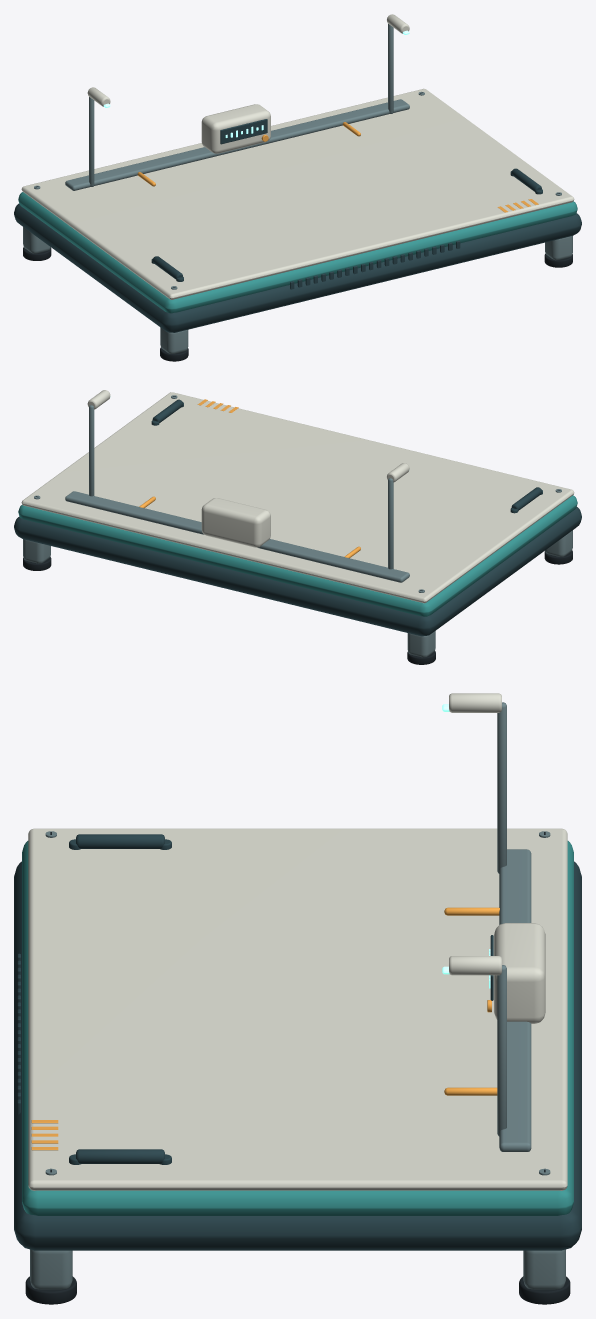
The model's file is workbench.glb.
The picture shows the model from 3 angles, top to bottom: view 1: azimuth 30°, elevation 25°; view 2: azimuth 150°, elevation 25°; view 3: azimuth 270°, elevation 25°; orthographic projection. The views are drawn at different scales.
Visible parts, largest first — view 1: Seed_Working surface.001, Seed_Lower chassis.001, Seed_Enamel shell.001, Seed_Rear bus.001, Seed_Instrument case.001, Seed_Instrument glass.001, Seed_Foot housing.004, Seed_Foot housing.006, Seed_Light support.003, Seed_Light support.002; view 2: Seed_Working surface.001, Seed_Lower chassis.001, Seed_Enamel shell.001, Seed_Rear bus.001, Seed_Instrument case.001, Seed_Foot housing.005, Seed_Foot housing.007, Seed_Light support.002, Seed_Light support.003, Seed_Foot housing.004; view 3: Seed_Working surface.001, Seed_Lower chassis.001, Seed_Enamel shell.001, Seed_Rear bus.001, Seed_Instrument case.001, Seed_Foot housing.006, Seed_Foot housing.007, Seed_Light support.002, Seed_Light support.003, Seed_Carry handle.002, Seed_Carry handle.003, Seed_Task light.002 (+3 smaller).
Part boxes in pixels (<box>): Seed_Working surface.001: <box>21,88,574,299</box>; Seed_Lower chassis.001: <box>14,203,581,332</box>; Seed_Enamel shell.001: <box>18,192,577,313</box>; Seed_Rear bus.001: <box>65,99,409,190</box>; Seed_Instrument case.001: <box>201,104,270,153</box>; Seed_Instrument glass.001: <box>220,119,267,144</box>; Seed_Foot housing.004: <box>160,327,188,353</box>; Seed_Foot housing.006: <box>545,236,572,260</box>; Seed_Light support.003: <box>388,24,393,113</box>; Seed_Light support.002: <box>89,97,94,186</box>; Seed_Working surface.001: <box>21,392,574,603</box>; Seed_Lower chassis.001: <box>14,507,581,636</box>; Seed_Enamel shell.001: <box>18,495,577,616</box>; Seed_Rear bus.001: <box>65,491,409,582</box>; Seed_Instrument case.001: <box>201,498,270,547</box>; Seed_Foot housing.005: <box>407,631,435,657</box>; Seed_Foot housing.007: <box>23,539,50,563</box>; Seed_Light support.002: <box>388,478,393,569</box>; Seed_Light support.003: <box>89,405,94,496</box>; Seed_Foot housing.004: <box>545,530,572,556</box>; Seed_Working surface.001: <box>28,828,567,1190</box>; Seed_Lower chassis.001: <box>14,861,581,1250</box>; Seed_Enamel shell.001: <box>22,841,573,1215</box>; Seed_Rear bus.001: <box>499,849,531,1151</box>; Seed_Instrument case.001: <box>494,923,545,1023</box>; Seed_Foot housing.006: <box>30,1249,72,1289</box>; Seed_Foot housing.007: <box>523,1249,565,1289</box>; Seed_Light support.002: <box>497,702,506,873</box>; Seed_Light support.003: <box>497,965,506,1136</box>; Seed_Carry handle.002: <box>76,834,164,848</box>; Seed_Carry handle.003: <box>76,1149,164,1163</box>; Seed_Task light.002: <box>449,693,501,712</box>.
Size of the model in its own units: 9.8 by 3.73 by 6.4.
